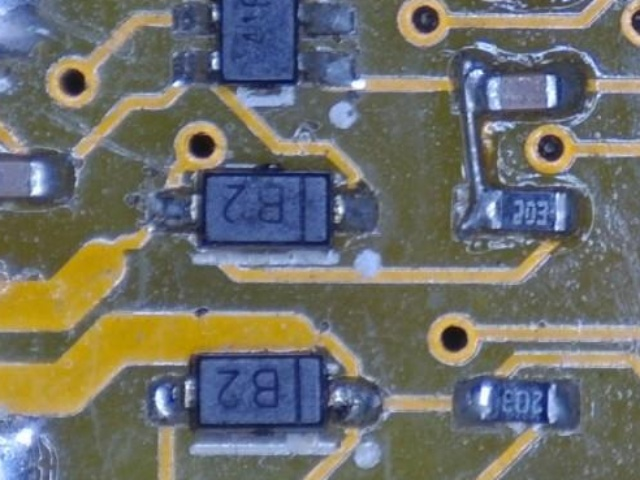pcb_defect: (455, 60, 503, 237), (329, 379, 380, 428), (174, 49, 221, 84), (304, 53, 355, 85), (304, 4, 355, 35), (336, 194, 378, 231), (172, 4, 212, 34), (456, 480, 494, 480)
